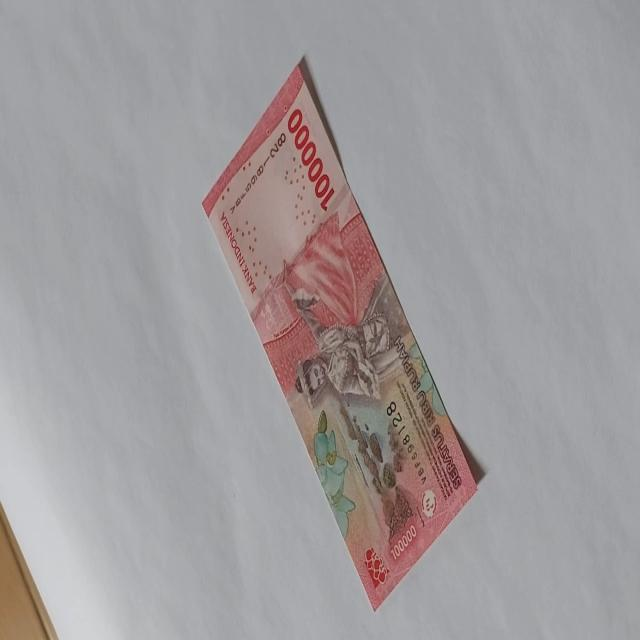seratus ribu rupiah: (201, 58, 479, 612), (312, 408, 356, 540)
